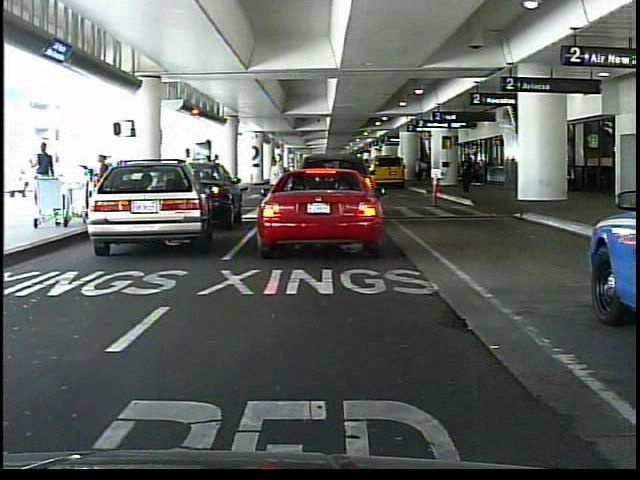person: (31, 140, 58, 222), (177, 146, 195, 224), (267, 153, 285, 205), (204, 154, 222, 204), (460, 155, 476, 195), (416, 155, 428, 188)
